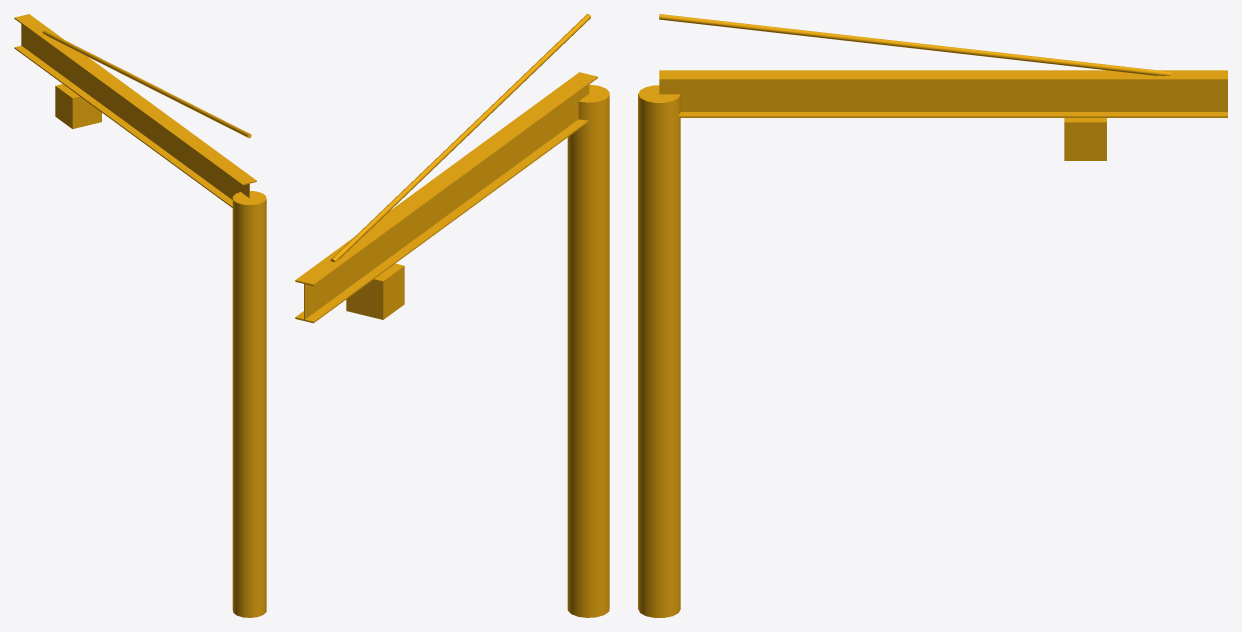
File: industrial.handling.jib_crane.glb
3 views of the same model, side by side, from view 1: azimuth 30°, elevation 25°; view 2: azimuth 150°, elevation 25°; view 3: azimuth 270°, elevation 25° (orthographic). The views are drawn at different scales.
Visible parts, largest first — view 1: main__plant_yellow; view 2: main__plant_yellow; view 3: main__plant_yellow.
Part boxes in pixels (x1=…): main__plant_yellow: x1=14, y1=14, x2=266, y2=617; main__plant_yellow: x1=295, y1=14, x2=609, y2=617; main__plant_yellow: x1=638, y1=14, x2=1227, y2=617.
Size of the model in its own units: 0.3 by 4.62 by 4.15.
